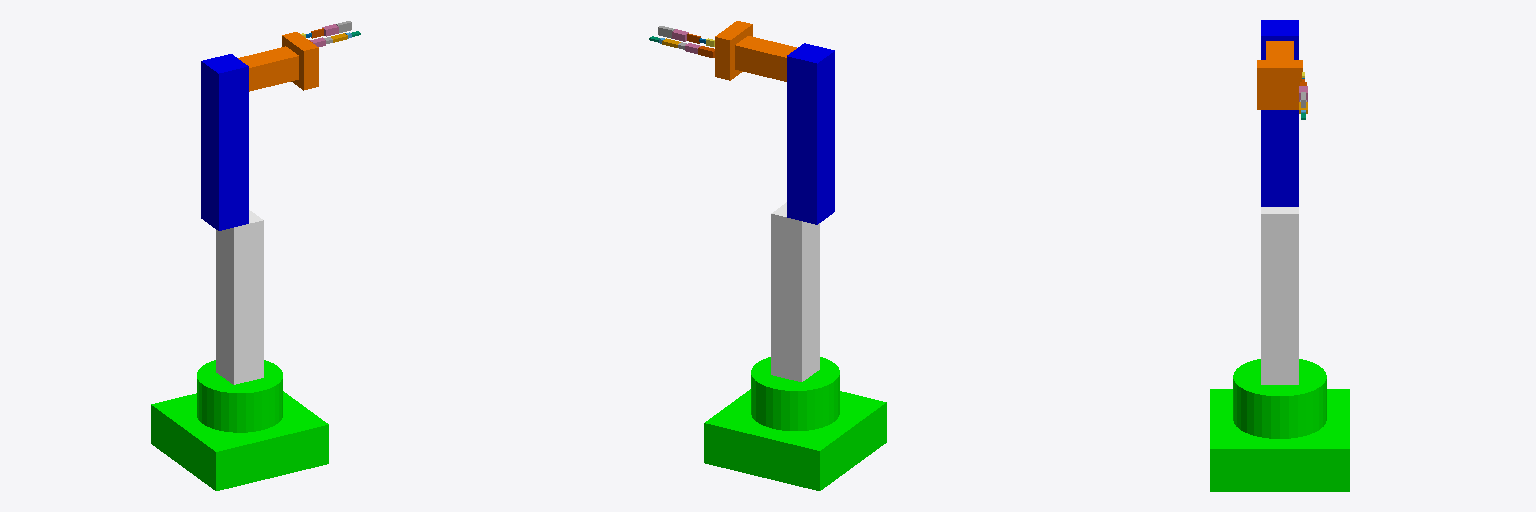
The robot description file, URDF, robot "robot":
<?xml version='1.0' encoding='utf-8'?>
<robot name="robot">
  <link name="base_link">
    <visual>
      <origin xyz="0 0 0.125" rpy="0 0 0" />
      <geometry>
        <box size="0.75 0.75 0.25" />
      </geometry>
      <material name="green" />
    </visual>
    <visual>
      <origin xyz="0 0 0.375" rpy="0 0 0" />
      <geometry>
        <cylinder length="0.25" radius="0.25" />
      </geometry>
      <material name="green">
        <color rgba="0 1 0 1" />
      </material>
    </visual>
    <collision>
      <geometry>
        <box size="0.75 0.75 0.5" />
      </geometry>
    </collision>
    <inertial>
      <mass value="0.5" />
      <inertia ixx="0.034" ixy="0.0" ixz="0.0" iyy="0.034" iyz="0.0" izz="0.034" />
    </inertial>
  </link>
  <link name="support_link">
    <visual>
      <origin xyz="0 0 0.5" rpy="0 0 0" />
      <geometry>
        <box size="0.2 0.2 1" />
      </geometry>
      <material name="white">
        <color rgba="1 1 1 1" />
      </material>
    </visual>
    <collision>
      <geometry>
        <box size="0.2 0.2 1" />
      </geometry>
    </collision>
    <inertial>
      <mass value="0.1" />
      <inertia ixx="0.01" ixy="0.0" ixz="0.0" iyy="0.01" iyz="0.0" izz="0.01" />
    </inertial>
  </link>
  <joint name="support_joint" type="continuous">
    <origin xyz="0 0 0.5" rpy="0 0 0" />
    <parent link="base_link" />
    <child link="support_link" />
    <axis xyz="0 0 1" />
  </joint>
  <link name="arm_link">
    <visual>
      <origin xyz="0 0 0.5" rpy="0 0 0" />
      <geometry>
        <box size="0.2 0.2 1" />
      </geometry>
      <material name="blue">
        <color rgba="0 0 1 1" />
      </material>
    </visual>
    <collision>
      <geometry>
        <box size="0.2 0.2 1" />
      </geometry>
    </collision>
    <inertial>
      <mass value="0.1" />
      <inertia ixx="0.01" ixy="0.0" ixz="0.0" iyy="0.01" iyz="0.0" izz="0.01" />
    </inertial>
  </link>
  <joint name="arm_joint" type="revolute">
    <origin xyz="-0.1 0 1" rpy="0 0 0" />
    <parent link="support_link" />
    <child link="arm_link" />
    <axis xyz="0 1 0" />
    <limit lower="-3.14" upper="3.14" effort="1.0" velocity="1.0" />
  </joint>
  <link name="wrist_link">
    <visual>
      <origin xyz="0 0 0.25" rpy="0 0 0" />
      <geometry>
        <box size="0.15 0.15 0.5" />
      </geometry>
      <material name="orange">
        <color rgba="1 0.5 0 1" />
      </material>
    </visual>
    <collision>
      <geometry>
        <box size="0.15 0.15 0.5" />
      </geometry>
    </collision>
    <inertial>
      <mass value="0.1" />
      <inertia ixx="0.01" ixy="0.0" ixz="0.0" iyy="0.01" iyz="0.0" izz="0.01" />
    </inertial>
  </link>
  <joint name="wrist_joint" type="fixed">
    <origin xyz="0 0 0.9" rpy="0 1.571 0" />
    <parent link="arm_link" />
    <child link="wrist_link" />
  </joint>
  <link name="palm_link">
    <visual>
      <origin xyz="0 0 0.05" rpy="0 0 0" />
      <geometry>
        <box size="0.25 0.25 0.1" />
      </geometry>
      <material name="orange" />
    </visual>
    <collision>
      <geometry>
        <box size="0.25 0.25 0.1" />
      </geometry>
    </collision>
    <inertial>
      <mass value="0.1" />
      <inertia ixx="0.01" ixy="0.0" ixz="0.0" iyy="0.01" iyz="0.0" izz="0.01" />
    </inertial>
  </link>
  <joint name="palm_joint" type="fixed">
    <origin xyz="0 0 0.45" rpy="0 0 0" />
    <parent link="wrist_link" />
    <child link="palm_link" />
  </joint>
  <link name="finger_link_0_0">
    <visual>
      <origin xyz="0 0 0.048" rpy="0 0 0" />
      <geometry>
        <box size="0.042 0.038 0.096" />
      </geometry>
    </visual>
    <collision>
      <geometry>
        <box size="0.042 0.038 0.096" />
      </geometry>
    </collision>
    <inertial>
      <mass value="0.046" />
      <inertia ixx="0.0" iyy="0.0" izz="0.0" ixy="0" ixz="0" iyz="0" />
    </inertial>
  </link>
  <joint name="finger_joint_palm_link_to_finger_link_0_0" type="revolute">
    <origin xyz="-0.019 0.125 0.1" rpy="0 0 0" />
    <parent link="palm_link" />
    <child link="finger_link_0_0" />
    <axis xyz="-1.0 0.0 0.0" />
    <limit lower="-3.142" upper="3.142" effort="10" velocity="10" />
  </joint>
  <link name="finger_link_0_1">
    <visual>
      <origin xyz="0 0 0.043" rpy="0 0 0" />
      <geometry>
        <box size="0.036 0.043 0.086" />
      </geometry>
    </visual>
    <collision>
      <geometry>
        <box size="0.036 0.043 0.086" />
      </geometry>
    </collision>
    <inertial>
      <mass value="0.04" />
      <inertia ixx="0.0" iyy="0.0" izz="0.0" ixy="0" ixz="0" iyz="0" />
    </inertial>
  </link>
  <joint name="finger_joint_finger_link_0_0_to_finger_link_0_1" type="revolute">
    <origin xyz="0.0 0.0 0.096" rpy="0 0 0" />
    <parent link="finger_link_0_0" />
    <child link="finger_link_0_1" />
    <axis xyz="0.0 1.0 0.0" />
    <limit lower="-3.142" upper="3.142" effort="10" velocity="10" />
  </joint>
  <link name="finger_link_0_2">
    <visual>
      <origin xyz="0 0 0.024" rpy="0 0 0" />
      <geometry>
        <box size="0.022 0.039 0.048" />
      </geometry>
    </visual>
    <collision>
      <geometry>
        <box size="0.022 0.039 0.048" />
      </geometry>
    </collision>
    <inertial>
      <mass value="0.012" />
      <inertia ixx="0.0" iyy="0.0" izz="0.0" ixy="0" ixz="0" iyz="0" />
    </inertial>
  </link>
  <joint name="finger_joint_finger_link_0_1_to_finger_link_0_2" type="revolute">
    <origin xyz="0.0 0.0 0.086" rpy="0 0 0" />
    <parent link="finger_link_0_1" />
    <child link="finger_link_0_2" />
    <axis xyz="0.0 1.0 0.0" />
    <limit lower="-3.142" upper="3.142" effort="10" velocity="10" />
  </joint>
  <link name="finger_link_0_3">
    <visual>
      <origin xyz="0 0 0.0495" rpy="0 0 0" />
      <geometry>
        <box size="0.021 0.043 0.099" />
      </geometry>
    </visual>
    <collision>
      <geometry>
        <box size="0.021 0.043 0.099" />
      </geometry>
    </collision>
    <inertial>
      <mass value="0.027" />
      <inertia ixx="0.0" iyy="0.0" izz="0.0" ixy="0" ixz="0" iyz="0" />
    </inertial>
  </link>
  <joint name="finger_joint_finger_link_0_2_to_finger_link_0_3" type="revolute">
    <origin xyz="0.0 0.0 0.048" rpy="0 0 0" />
    <parent link="finger_link_0_2" />
    <child link="finger_link_0_3" />
    <axis xyz="1.0 0.0 0.0" />
    <limit lower="-3.142" upper="3.142" effort="10" velocity="10" />
  </joint>
  <link name="finger_link_0_4">
    <visual>
      <origin xyz="0 0 0.0135" rpy="0 0 0" />
      <geometry>
        <box size="0.026 0.023 0.027" />
      </geometry>
    </visual>
    <collision>
      <geometry>
        <box size="0.026 0.023 0.027" />
      </geometry>
    </collision>
    <inertial>
      <mass value="0.005" />
      <inertia ixx="0.0" iyy="0.0" izz="0.0" ixy="0" ixz="0" iyz="0" />
    </inertial>
  </link>
  <joint name="finger_joint_finger_link_0_3_to_finger_link_0_4" type="revolute">
    <origin xyz="0.0 0.0 0.099" rpy="0 0 0" />
    <parent link="finger_link_0_3" />
    <child link="finger_link_0_4" />
    <axis xyz="1.0 0.0 0.0" />
    <limit lower="-3.142" upper="3.142" effort="10" velocity="10" />
  </joint>
  <link name="finger_link_0_5">
    <visual>
      <origin xyz="0 0 0.0305" rpy="0 0 0" />
      <geometry>
        <box size="0.013 0.031 0.061" />
      </geometry>
    </visual>
    <collision>
      <geometry>
        <box size="0.013 0.031 0.061" />
      </geometry>
    </collision>
    <inertial>
      <mass value="0.007" />
      <inertia ixx="0.0" iyy="0.0" izz="0.0" ixy="0" ixz="0" iyz="0" />
    </inertial>
  </link>
  <joint name="finger_joint_finger_link_0_4_to_finger_link_0_5" type="revolute">
    <origin xyz="0.0 0.0 0.027" rpy="0 0 0" />
    <parent link="finger_link_0_4" />
    <child link="finger_link_0_5" />
    <axis xyz="1.0 0.0 0.0" />
    <limit lower="-3.142" upper="3.142" effort="10" velocity="10" />
  </joint>
  <link name="finger_link_1_0">
    <visual>
      <origin xyz="0 0 0.026" rpy="0 0 0" />
      <geometry>
        <box size="0.037 0.019 0.052" />
      </geometry>
    </visual>
    <collision>
      <geometry>
        <box size="0.037 0.019 0.052" />
      </geometry>
    </collision>
    <inertial>
      <mass value="0.011" />
      <inertia ixx="0.0" iyy="0.0" izz="0.0" ixy="0" ixz="0" iyz="0" />
    </inertial>
  </link>
  <joint name="finger_joint_palm_link_to_finger_link_1_0" type="revolute">
    <origin xyz="-0.081 0.125 0.1" rpy="0 0 0" />
    <parent link="palm_link" />
    <child link="finger_link_1_0" />
    <axis xyz="-1.0 0.0 0.0" />
    <limit lower="-3.142" upper="3.142" effort="10" velocity="10" />
  </joint>
  <link name="finger_link_1_1">
    <visual>
      <origin xyz="0 0 0.0225" rpy="0 0 0" />
      <geometry>
        <box size="0.019 0.016 0.045" />
      </geometry>
    </visual>
    <collision>
      <geometry>
        <box size="0.019 0.016 0.045" />
      </geometry>
    </collision>
    <inertial>
      <mass value="0.004" />
      <inertia ixx="0.0" iyy="0.0" izz="0.0" ixy="0" ixz="0" iyz="0" />
    </inertial>
  </link>
  <joint name="finger_joint_finger_link_1_0_to_finger_link_1_1" type="revolute">
    <origin xyz="0.0 0.0 0.052" rpy="0 0 0" />
    <parent link="finger_link_1_0" />
    <child link="finger_link_1_1" />
    <axis xyz="1.0 0.0 0.0" />
    <limit lower="-3.142" upper="3.142" effort="10" velocity="10" />
  </joint>
  <link name="finger_link_1_2">
    <visual>
      <origin xyz="0 0 0.041" rpy="0 0 0" />
      <geometry>
        <box size="0.043 0.011 0.082" />
      </geometry>
    </visual>
    <collision>
      <geometry>
        <box size="0.043 0.011 0.082" />
      </geometry>
    </collision>
    <inertial>
      <mass value="0.012" />
      <inertia ixx="0.0" iyy="0.0" izz="0.0" ixy="0" ixz="0" iyz="0" />
    </inertial>
  </link>
  <joint name="finger_joint_finger_link_1_1_to_finger_link_1_2" type="revolute">
    <origin xyz="0.0 0.0 0.045" rpy="0 0 0" />
    <parent link="finger_link_1_1" />
    <child link="finger_link_1_2" />
    <axis xyz="1.0 1.0 0.0" />
    <limit lower="-3.142" upper="3.142" effort="10" velocity="10" />
  </joint>
  <link name="finger_link_1_3">
    <visual>
      <origin xyz="0 0 0.0435" rpy="0 0 0" />
      <geometry>
        <box size="0.042 0.046 0.087" />
      </geometry>
    </visual>
    <collision>
      <geometry>
        <box size="0.042 0.046 0.087" />
      </geometry>
    </collision>
    <inertial>
      <mass value="0.05" />
      <inertia ixx="0.0" iyy="0.0" izz="0.0" ixy="0" ixz="0" iyz="0" />
    </inertial>
  </link>
  <joint name="finger_joint_finger_link_1_2_to_finger_link_1_3" type="revolute">
    <origin xyz="0.0 0.0 0.082" rpy="0 0 0" />
    <parent link="finger_link_1_2" />
    <child link="finger_link_1_3" />
    <axis xyz="1.0 0.0 0.0" />
    <limit lower="-3.142" upper="3.142" effort="10" velocity="10" />
  </joint>
  <link name="finger_link_1_4">
    <visual>
      <origin xyz="0 0 0.047" rpy="0 0 0" />
      <geometry>
        <box size="0.05 0.028 0.094" />
      </geometry>
    </visual>
    <collision>
      <geometry>
        <box size="0.05 0.028 0.094" />
      </geometry>
    </collision>
    <inertial>
      <mass value="0.039" />
      <inertia ixx="0.0" iyy="0.0" izz="0.0" ixy="0" ixz="0" iyz="0" />
    </inertial>
  </link>
  <joint name="finger_joint_finger_link_1_3_to_finger_link_1_4" type="revolute">
    <origin xyz="0.0 0.0 0.087" rpy="0 0 0" />
    <parent link="finger_link_1_3" />
    <child link="finger_link_1_4" />
    <axis xyz="1.0 1.0 0.0" />
    <limit lower="-3.142" upper="3.142" effort="10" velocity="10" />
  </joint>
</robot>

--- Facts derived from the render (not from the file) ---
Views: 3 orthographic renders of the robot side by side, from view 1: azimuth 30°, elevation 25°; view 2: azimuth 150°, elevation 25°; view 3: azimuth 270°, elevation 25°.
Robot: robot — 16 links, 15 joints (12 revolute, 1 continuous, 2 fixed); root link base_link; default pose: all joints at 0.
Visible links, largest first — view 1: base_link, arm_link, support_link, wrist_link, palm_link; view 2: base_link, arm_link, support_link, wrist_link, palm_link; view 3: base_link, support_link, arm_link, palm_link, wrist_link.
Boxes of the visible links, box(x1,y1,x2,y2) form: base_link: box(151, 360, 328, 490); arm_link: box(201, 54, 248, 230); support_link: box(216, 210, 263, 384); wrist_link: box(238, 46, 298, 91); palm_link: box(282, 32, 318, 90); base_link: box(704, 357, 886, 490); arm_link: box(787, 43, 834, 224); support_link: box(771, 202, 819, 381); wrist_link: box(735, 36, 796, 81); palm_link: box(715, 21, 752, 80); base_link: box(1210, 359, 1349, 491); support_link: box(1261, 207, 1298, 384); arm_link: box(1261, 20, 1298, 206); palm_link: box(1257, 60, 1302, 109); wrist_link: box(1266, 41, 1293, 59).
Bounding box of the posed robot: 1.24 × 0.75 × 2.52 m (x, y, z).
Geometry: primitives only (box / cylinder / sphere), no mesh files.